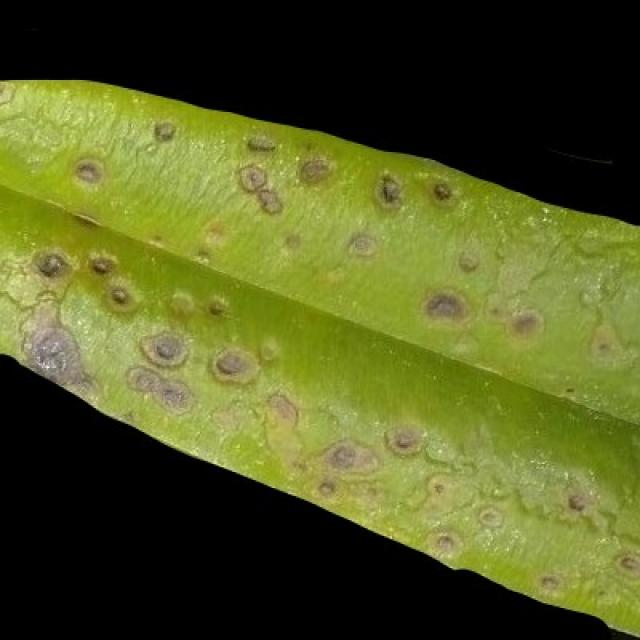mite: (370, 168, 458, 213), (123, 363, 194, 414), (64, 149, 110, 194), (208, 346, 259, 386), (139, 328, 190, 368), (382, 422, 424, 458), (296, 154, 333, 186), (373, 171, 403, 210), (426, 528, 462, 560), (507, 306, 542, 338), (32, 250, 69, 280), (426, 174, 458, 208), (70, 155, 104, 186), (235, 162, 267, 194), (102, 280, 134, 312), (344, 229, 378, 259), (245, 131, 277, 152), (150, 118, 176, 142), (429, 179, 453, 203), (107, 283, 128, 306)
spots: (0, 74, 638, 638)
